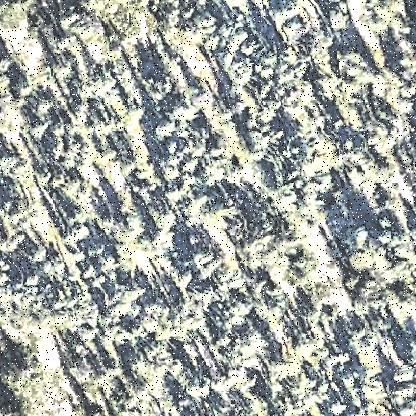tree-top: (337, 224, 379, 273), (106, 280, 150, 320), (350, 339, 388, 377), (290, 248, 324, 286), (2, 356, 38, 389), (345, 55, 386, 83), (142, 73, 176, 105), (59, 172, 91, 203), (227, 56, 257, 88), (149, 204, 181, 233), (64, 206, 96, 235), (190, 247, 220, 277), (346, 221, 374, 253), (62, 220, 94, 248), (358, 377, 389, 405), (326, 5, 354, 35), (232, 289, 260, 319), (395, 346, 416, 385), (276, 354, 308, 379), (1, 1, 27, 29), (101, 357, 127, 385), (152, 118, 179, 144), (188, 377, 214, 403), (50, 57, 76, 82), (229, 93, 253, 118), (282, 16, 306, 40), (28, 119, 52, 142), (13, 75, 37, 97), (27, 243, 49, 267), (258, 63, 280, 87), (100, 253, 124, 275), (1, 149, 20, 175), (1, 398, 27, 416), (377, 160, 399, 181), (195, 11, 217, 31), (397, 52, 416, 72), (91, 241, 110, 261), (331, 399, 353, 415), (219, 2, 251, 12), (1, 70, 14, 94), (85, 405, 111, 416), (1, 55, 15, 73)
